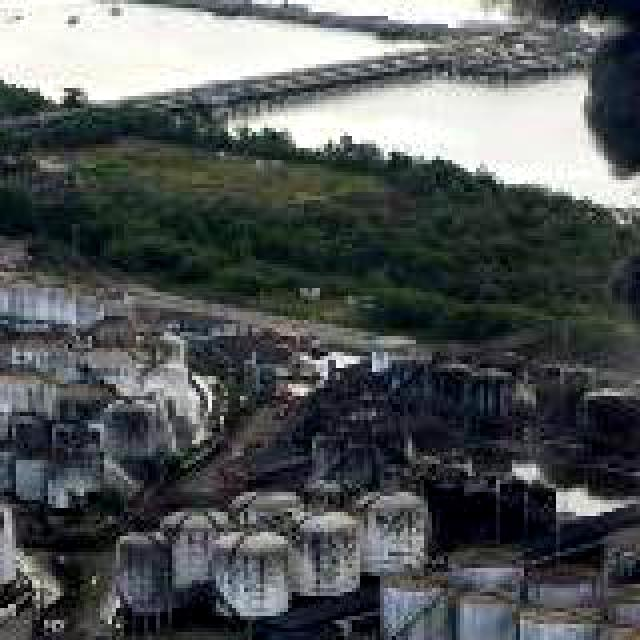smoke: (468, 0, 640, 412)
